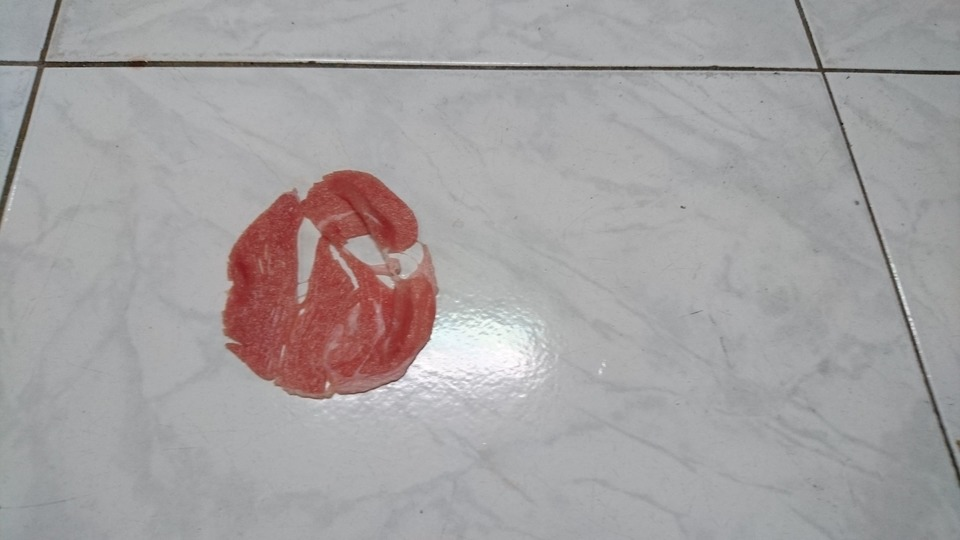restructured meat: (225, 171, 445, 406)
